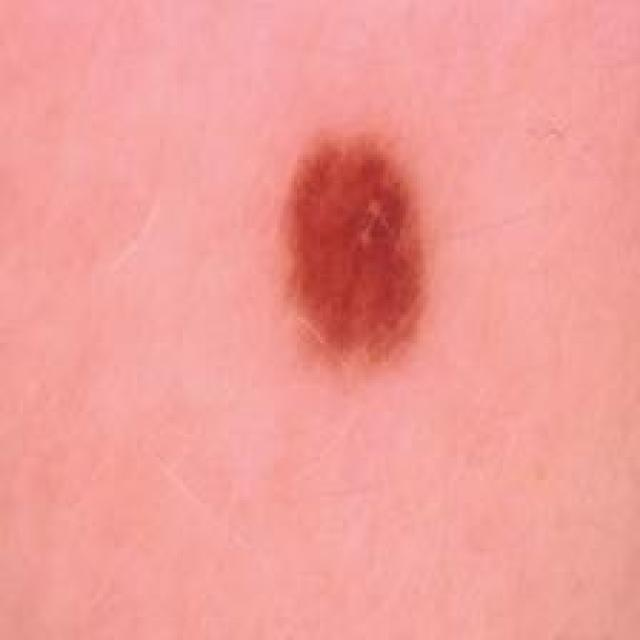Cancer: (274, 126, 432, 374)
